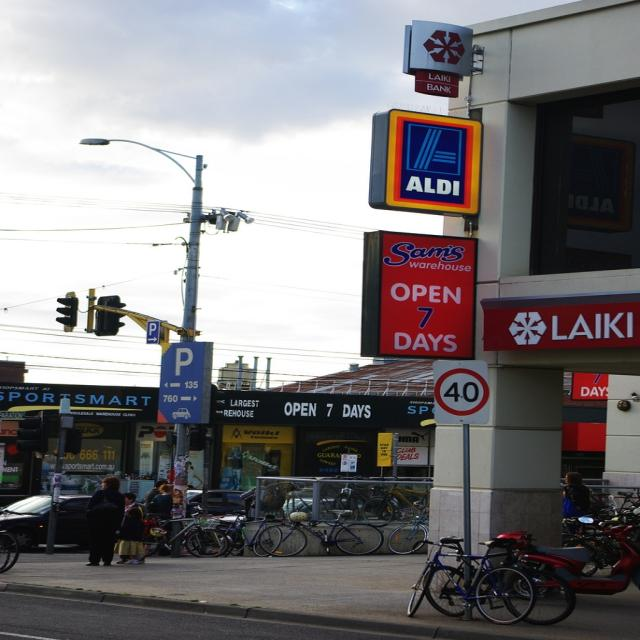aldi: (386, 110, 483, 214)
